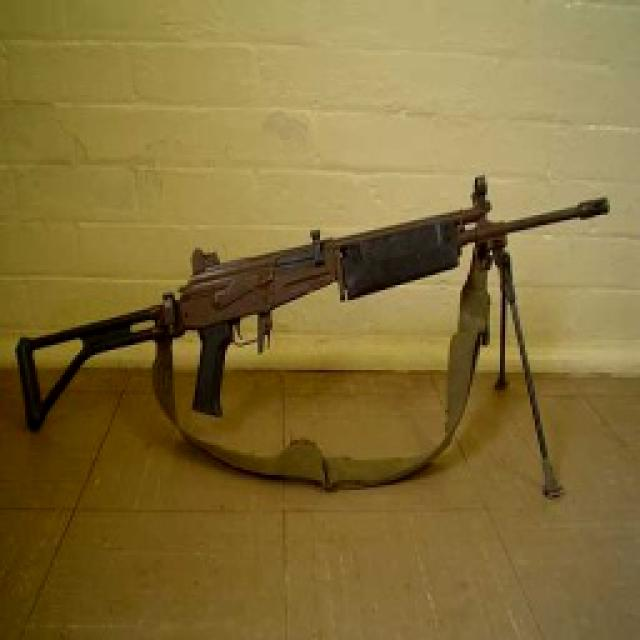long weapon: (0, 176, 629, 562)
